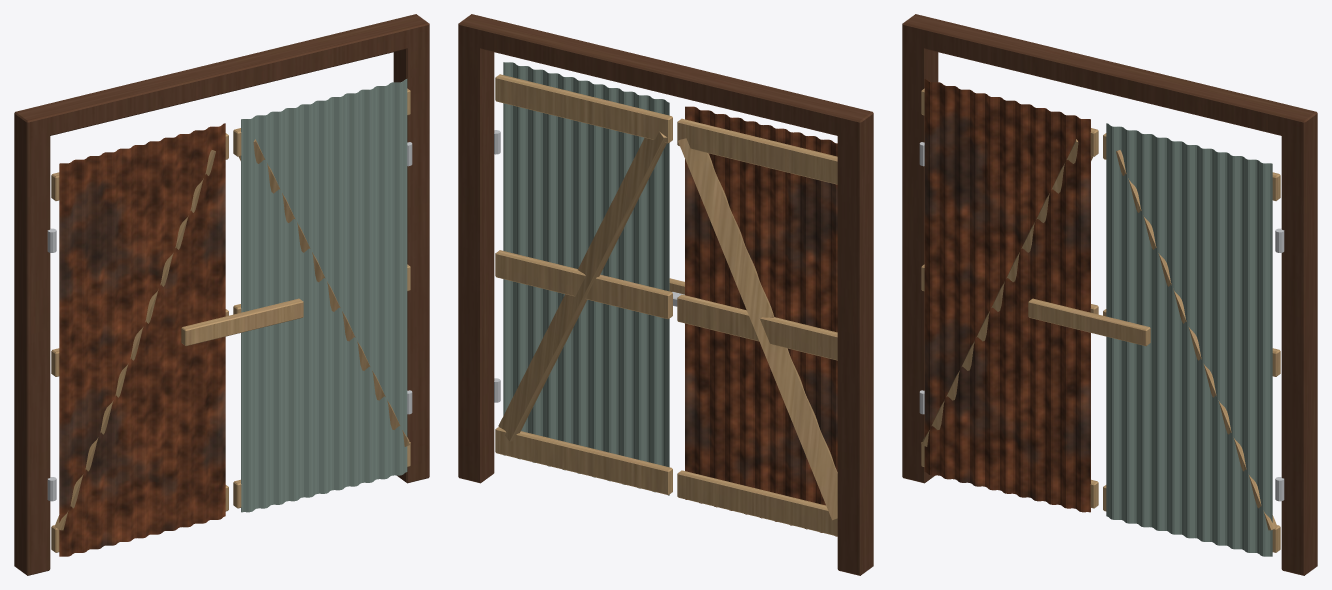
Rendered from portao_sucata.glb.
The picture shows the model from 3 angles, left to right: view 1: azimuth 30°, elevation 25°; view 2: azimuth 150°, elevation 25°; view 3: azimuth 330°, elevation 25°; orthographic projection.
Parts seen in each view (by area): view 1: portao_sucata_folha_esq_ferrugem, portao_sucata_folha_dir_chapa_pintada, portao_sucata_madeira_escura, portao_sucata_folha_esq_madeira_crua, portao_sucata_folha_dir_madeira_crua, portao_sucata_madeira_crua; view 2: portao_sucata_madeira_escura, portao_sucata_folha_dir_chapa_pintada, portao_sucata_folha_esq_ferrugem, portao_sucata_folha_esq_madeira_crua, portao_sucata_folha_dir_madeira_crua; view 3: portao_sucata_folha_dir_chapa_pintada, portao_sucata_folha_esq_ferrugem, portao_sucata_madeira_escura, portao_sucata_folha_dir_madeira_crua, portao_sucata_folha_esq_madeira_crua, portao_sucata_madeira_crua.
Part boxes in pixels (x1,y1,x2,y2): portao_sucata_folha_esq_ferrugem: (59, 123, 225, 556); portao_sucata_folha_dir_chapa_pintada: (241, 79, 407, 512); portao_sucata_madeira_escura: (14, 14, 429, 575); portao_sucata_folha_esq_madeira_crua: (51, 133, 228, 552); portao_sucata_folha_dir_madeira_crua: (233, 88, 410, 508); portao_sucata_madeira_crua: (181, 298, 303, 346); portao_sucata_madeira_escura: (458, 14, 873, 575); portao_sucata_folha_dir_chapa_pintada: (503, 62, 669, 495); portao_sucata_folha_esq_ferrugem: (685, 106, 837, 536); portao_sucata_folha_esq_madeira_crua: (677, 118, 837, 536); portao_sucata_folha_dir_madeira_crua: (495, 74, 672, 495); portao_sucata_folha_dir_chapa_pintada: (1106, 123, 1272, 556); portao_sucata_folha_esq_ferrugem: (924, 79, 1090, 512); portao_sucata_madeira_escura: (902, 14, 1317, 575); portao_sucata_folha_dir_madeira_crua: (1103, 133, 1280, 552); portao_sucata_folha_esq_madeira_crua: (921, 88, 1098, 508); portao_sucata_madeira_crua: (1028, 298, 1150, 346).
Size of the model in its own units: 2.04 by 2.2 by 0.26.
Materials: 5 (3 with a texture image).
